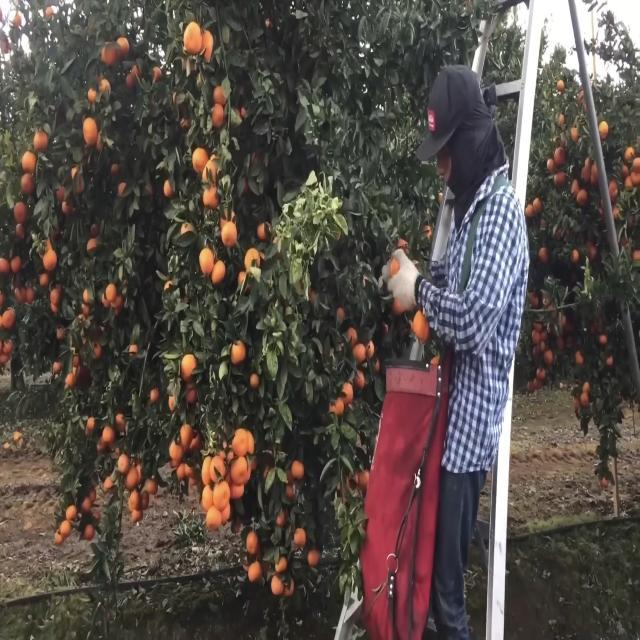Jeruk Sudah Matang: (181, 19, 206, 60), (411, 306, 433, 344), (230, 425, 250, 458), (211, 479, 231, 511), (179, 351, 198, 382), (82, 116, 100, 148), (229, 456, 249, 484), (192, 145, 210, 176), (230, 337, 248, 368), (220, 218, 238, 248), (40, 244, 58, 274), (206, 504, 223, 534), (20, 150, 40, 174), (198, 247, 214, 276), (246, 555, 262, 584), (124, 464, 140, 492), (270, 570, 286, 598), (20, 170, 37, 196), (13, 198, 28, 227), (211, 258, 226, 286), (32, 130, 50, 153), (290, 458, 308, 481), (246, 528, 260, 556), (116, 452, 130, 476), (104, 282, 118, 303), (294, 524, 306, 548)
